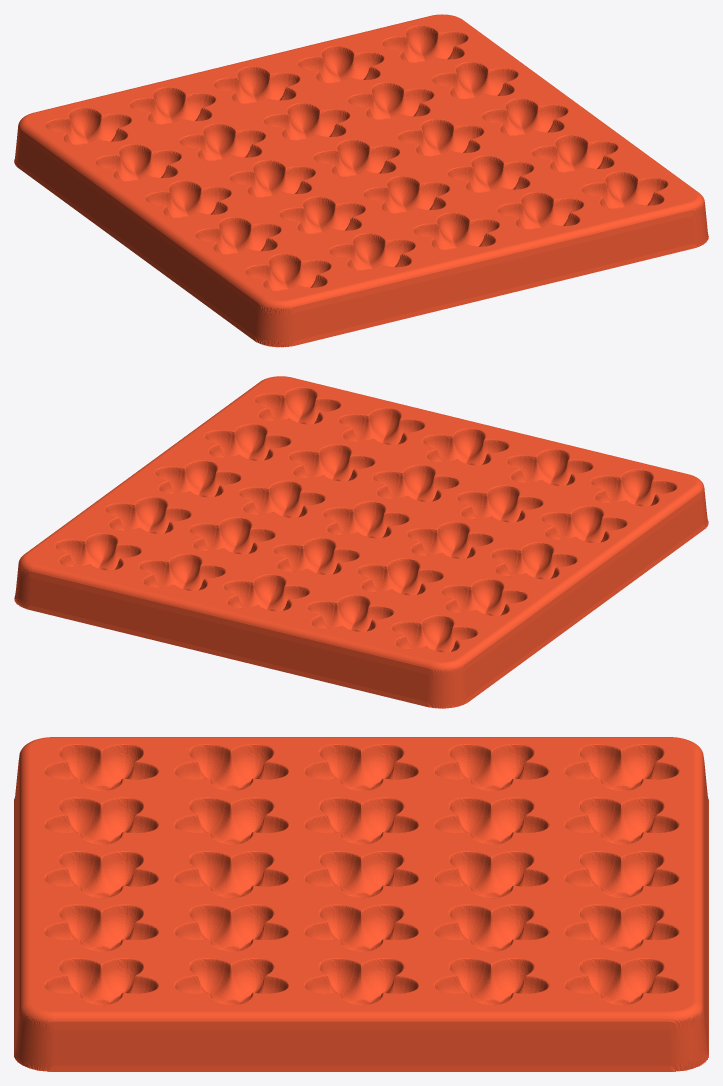
File: mold.glb
3 renders of one model, top to bottom at view 1: azimuth 30°, elevation 25°; view 2: azimuth 150°, elevation 25°; view 3: azimuth 270°, elevation 25°, orthographic. The views are drawn at different scales.
Visible parts, largest first — view 1: geometry_0; view 2: geometry_0; view 3: geometry_0.
Part boxes in pixels (x1,y1,x2,y2): geometry_0: [14, 14, 708, 347]; geometry_0: [14, 376, 708, 708]; geometry_0: [14, 737, 708, 1071].
Size of the model in its own units: 0.1545 by 0.0136 by 0.1584.
